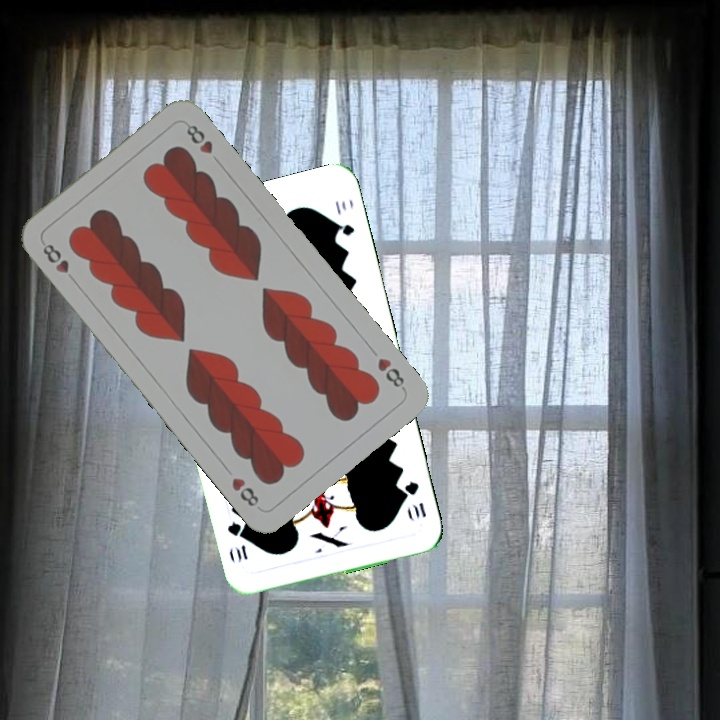G10: (400, 477, 429, 520)
H8: (373, 353, 408, 393), (38, 239, 72, 276)
